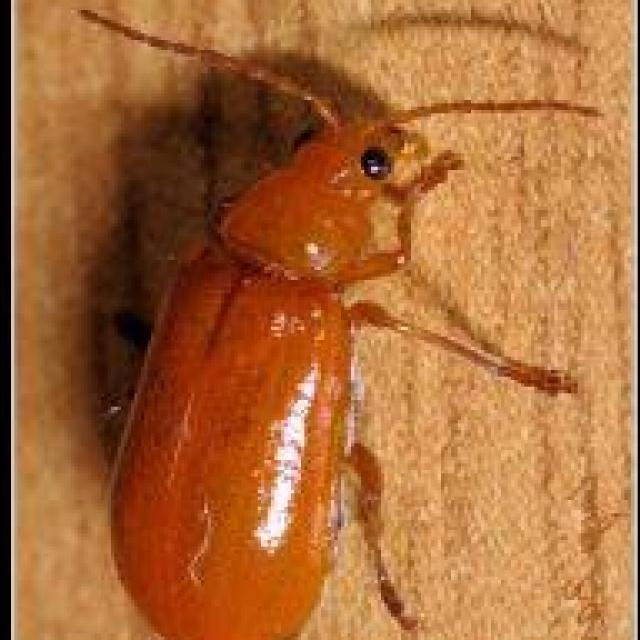Pumpkin Beetle: (67, 2, 612, 640)
